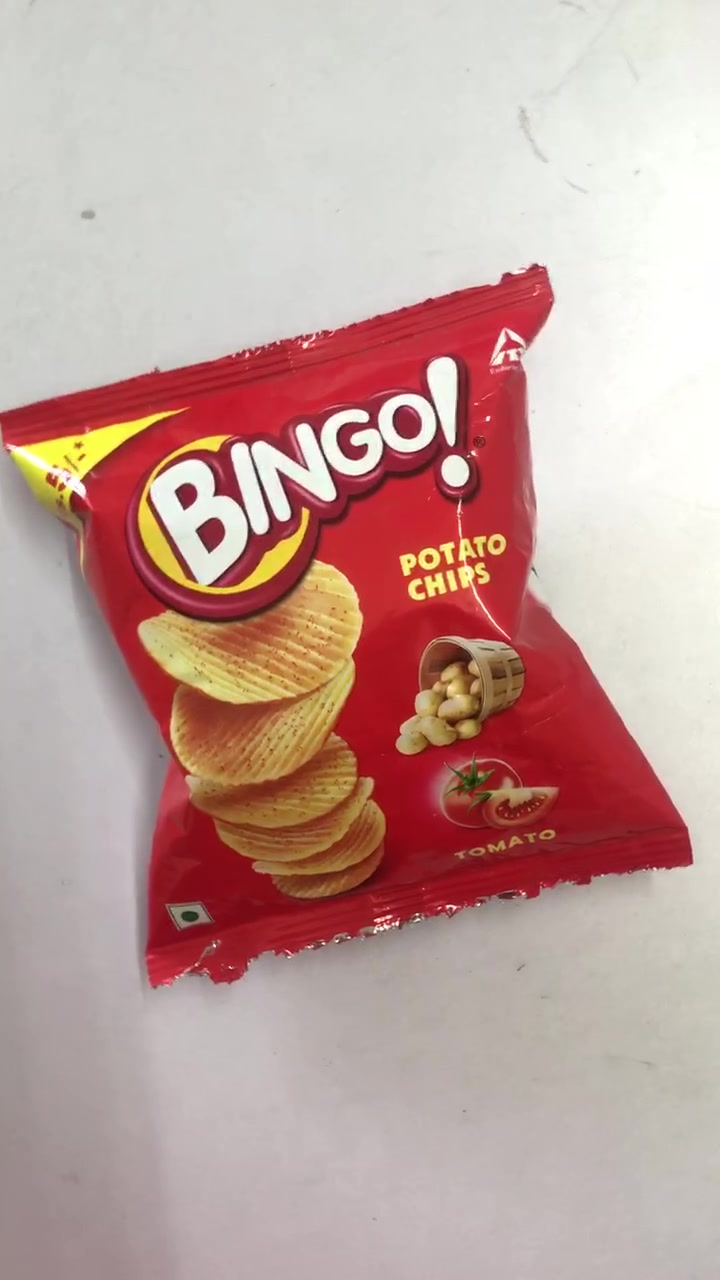Bingo: (10, 284, 687, 971)
